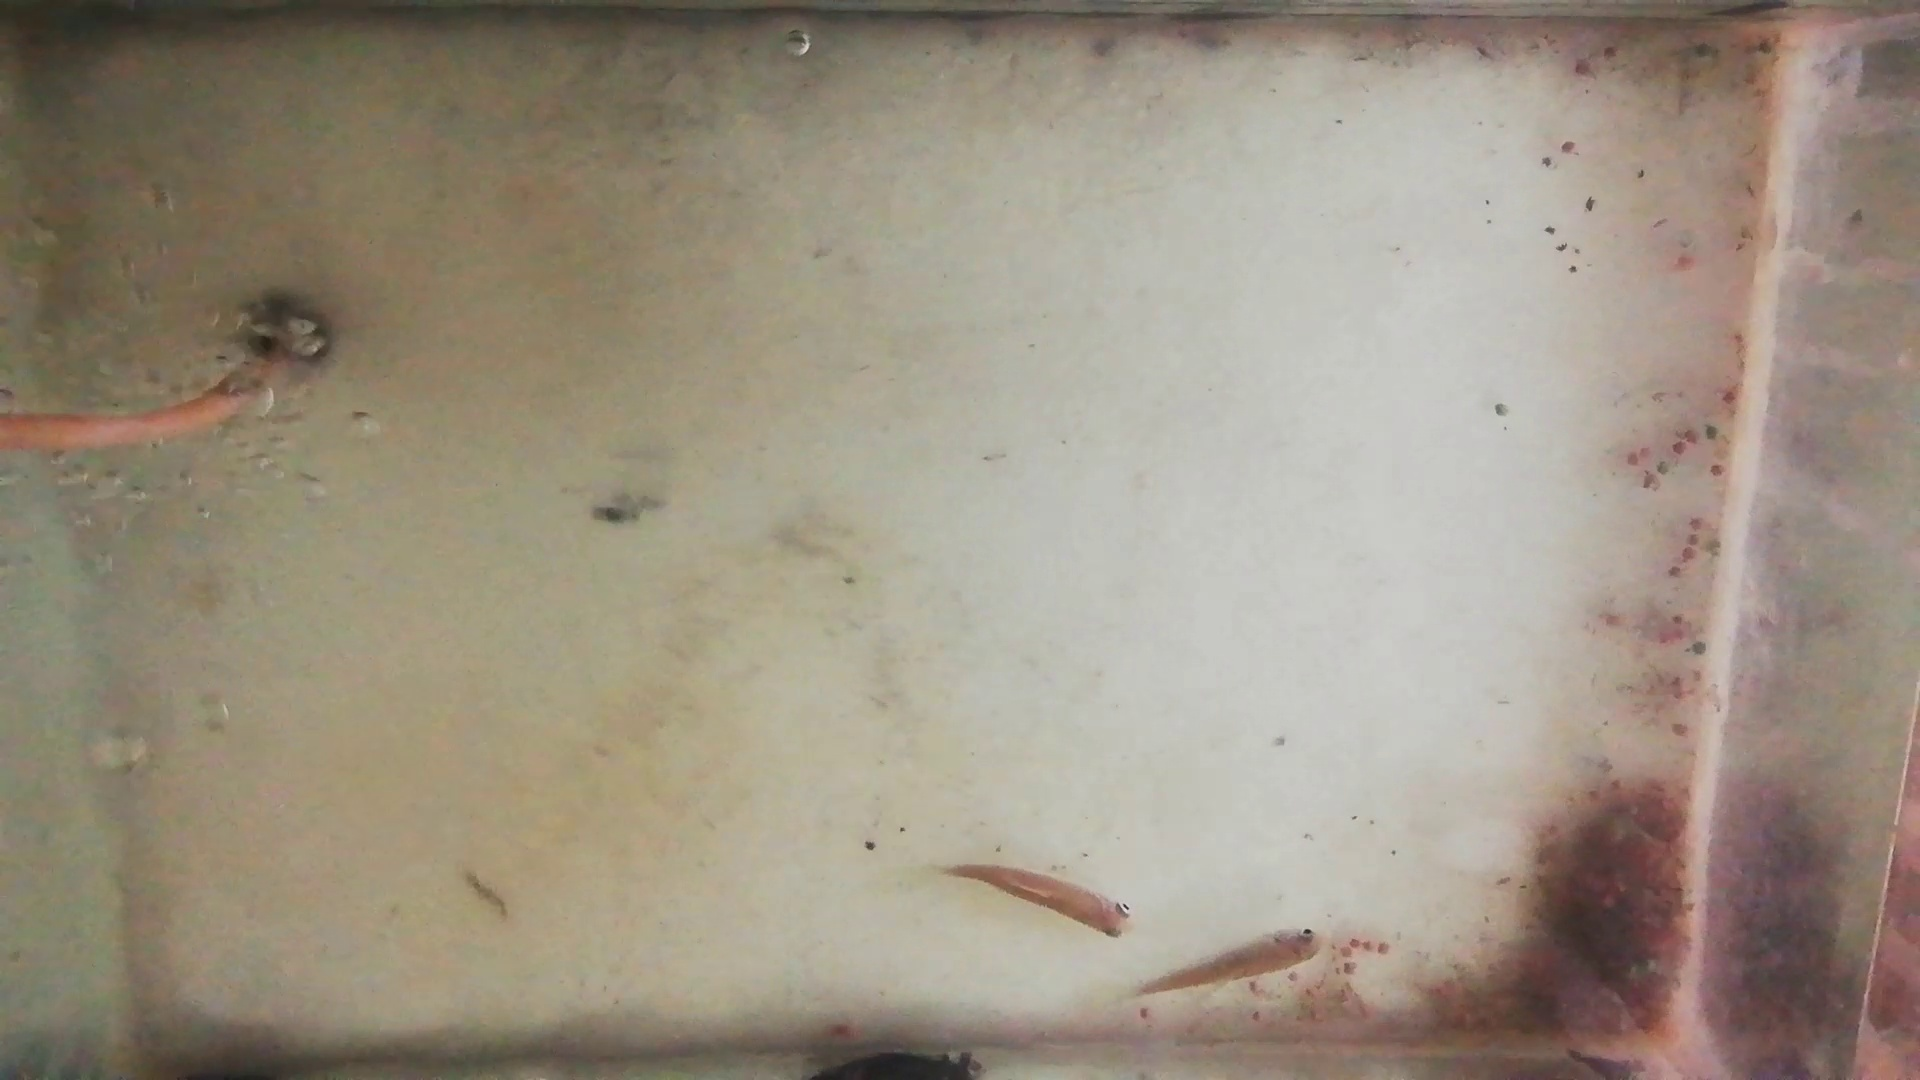fish: (945, 865, 1138, 944), (1137, 928, 1327, 996)
